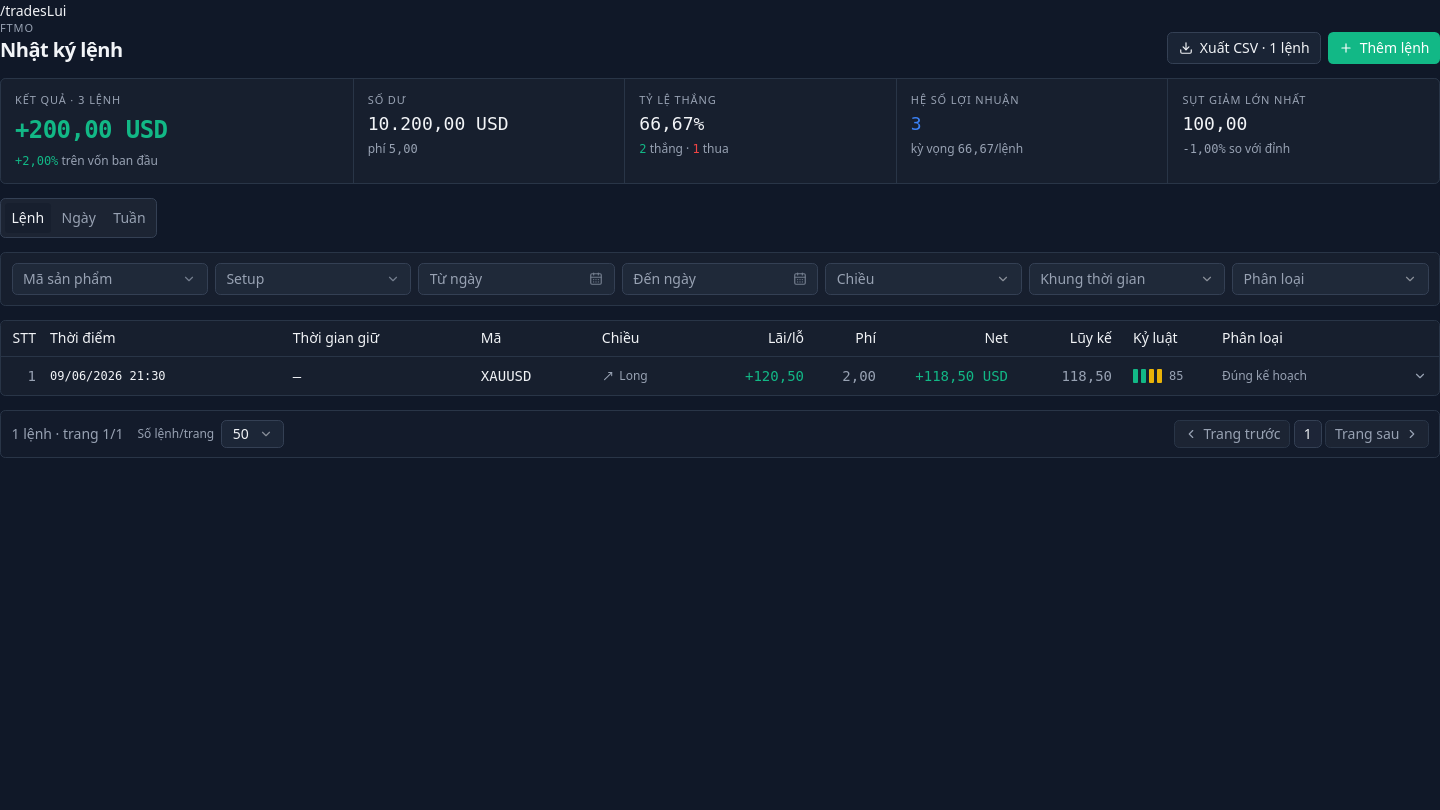
Test case: hộp xác nhận xoá là alertdialog và focus rơi vào Huỷ
Expected: the row "XAUUSD" is shown, [1, 356, 1439, 395]
Click the button named "Xem chi tiết lệnh 1": (1420, 376) [1408, 364, 1432, 388]
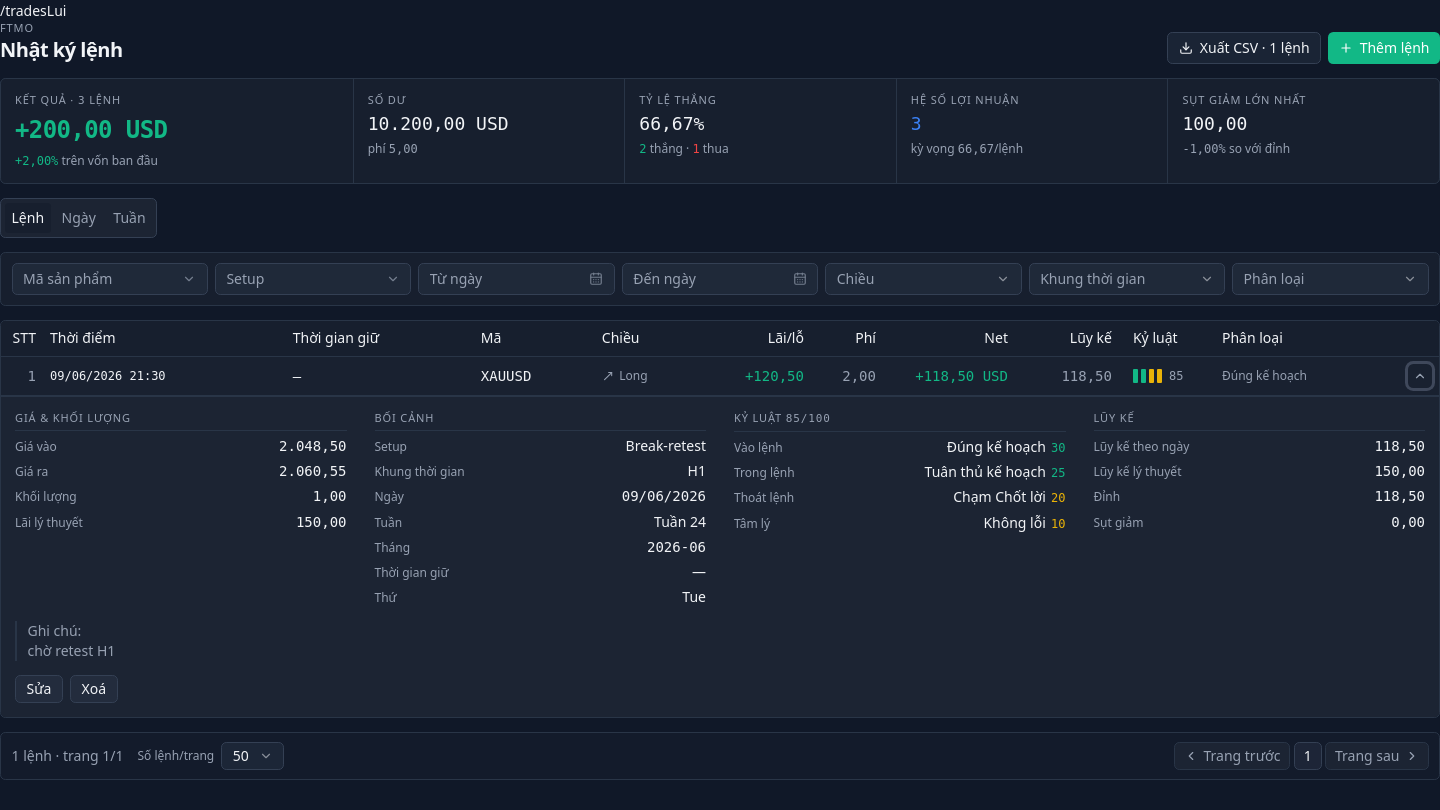
Click the button with aria-label "Xoá lệnh 1": (94, 689) [70, 675, 118, 703]
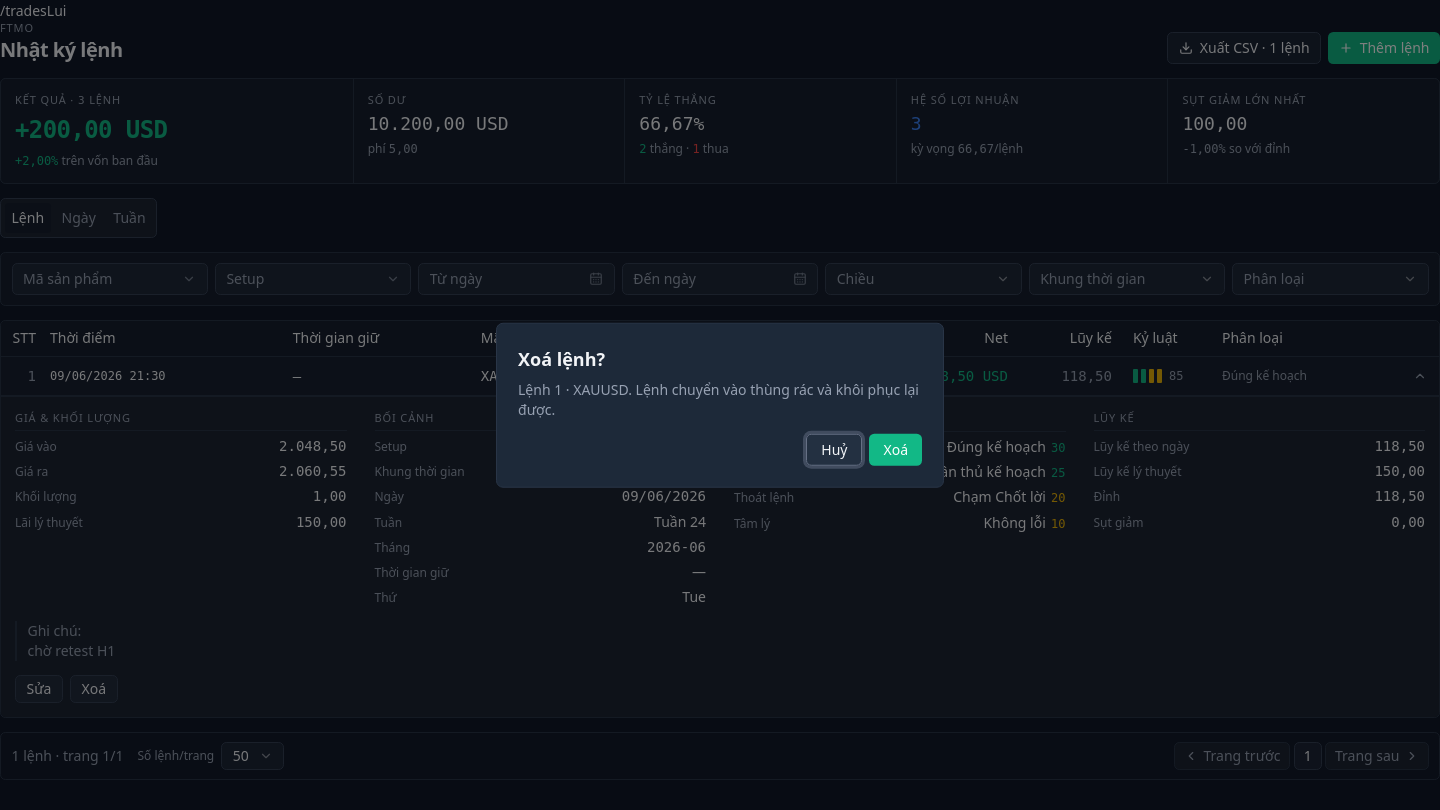
Now the dialog shows "Xoá lệnh?", box [518, 347, 605, 371]
